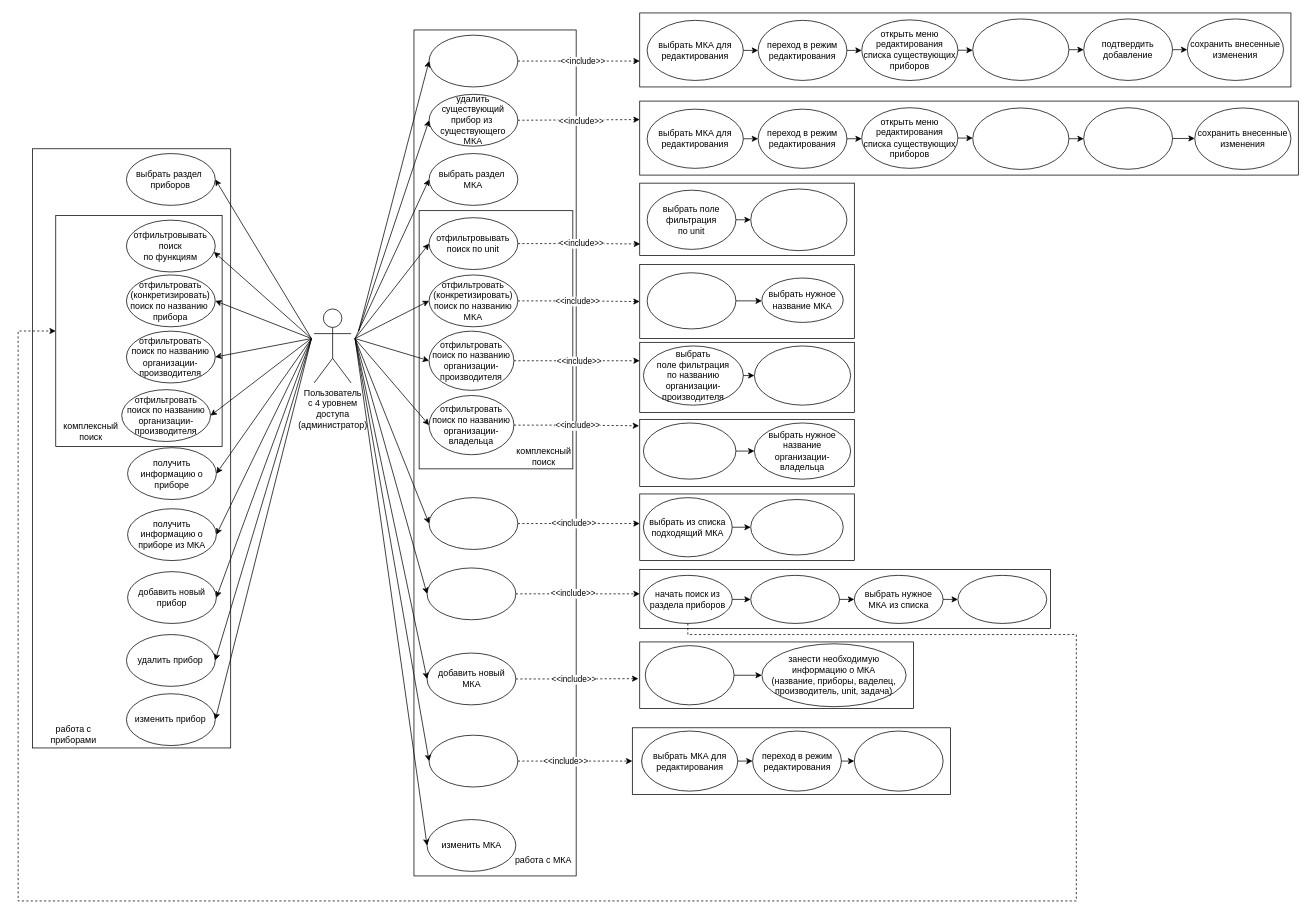
This 1311x920 diagram has some shape labels left out. The shapes that lost their labels are listed below. From the top down, each one's box as (x1, y1, x2, y2) in pixels, then its label:
(428, 34, 518, 87): добавить существующий прибор к существующему МКА
(972, 18, 1069, 80): выбрать существующий прибор для добавления
(972, 107, 1069, 169): выбрать существующий прибор для удаления
(1083, 107, 1173, 169): подтвердить удаления
(750, 188, 847, 251): выбрать нужное значение по которому будет происходить фильтрация
(646, 272, 736, 329): выбрать поле фильтрация по названию МКА
(754, 345, 851, 405): выбрать нужное название организации-производителя
(643, 422, 736, 479): выбрать поле фильтрация по названию организации-владельца
(428, 497, 518, 549): получить информацию о МКА
(750, 499, 843, 555): переход на страницу с подробным описанием искомой МКА
(426, 567, 516, 620): получить информацию о МКА из приборов
(750, 575, 840, 623): перейти в соответствующий прибор
(957, 575, 1047, 623): перейти на страницу выбранного МКА
(645, 645, 734, 705): открыть меню добавления нового МКА
(428, 734, 518, 787): удалить МКА
(854, 730, 943, 791): удаление выбранного МКА
